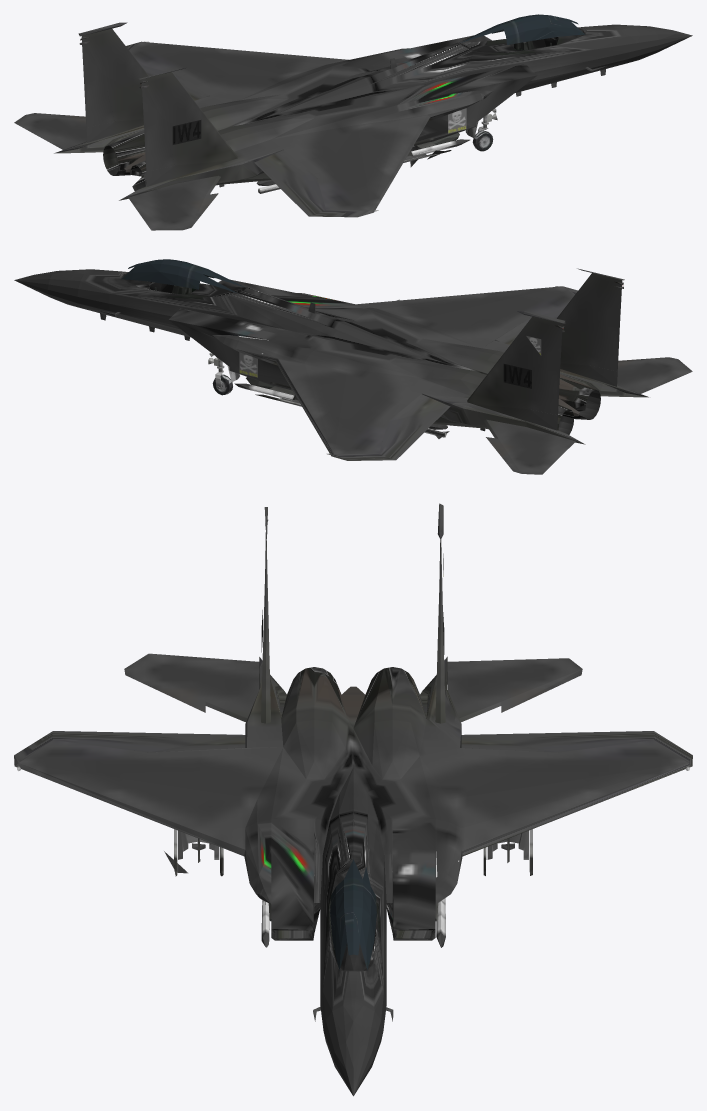
3 views of the same model, one above another, from view 1: azimuth 30°, elevation 25°; view 2: azimuth 150°, elevation 25°; view 3: azimuth 270°, elevation 25° (orthographic). The views are drawn at different scales.
Visible parts, largest first — view 1: TomGroup_4_mtl_f15_col_0, TomGroup_7_mtl_f15_glass_0, TomGroup_6_mtl_f15_decals_0; view 2: TomGroup_4_mtl_f15_col_0, TomGroup_7_mtl_f15_glass_0, TomGroup_6_mtl_f15_decals_0; view 3: TomGroup_4_mtl_f15_col_0, TomGroup_7_mtl_f15_glass_0.
Boxes of the visible parts, bbox=[...] form: TomGroup_4_mtl_f15_col_0: bbox=[14, 22, 692, 230]; TomGroup_7_mtl_f15_glass_0: bbox=[460, 14, 584, 44]; TomGroup_6_mtl_f15_decals_0: bbox=[172, 108, 466, 144]; TomGroup_4_mtl_f15_col_0: bbox=[14, 268, 692, 474]; TomGroup_7_mtl_f15_glass_0: bbox=[121, 259, 245, 293]; TomGroup_6_mtl_f15_decals_0: bbox=[239, 336, 541, 388]; TomGroup_4_mtl_f15_col_0: bbox=[14, 503, 692, 1096]; TomGroup_7_mtl_f15_glass_0: bbox=[330, 859, 376, 970].
Bounding box in the file's own units: 1936 × 564 × 1279.
Materials: 4 (4 with a texture image).
